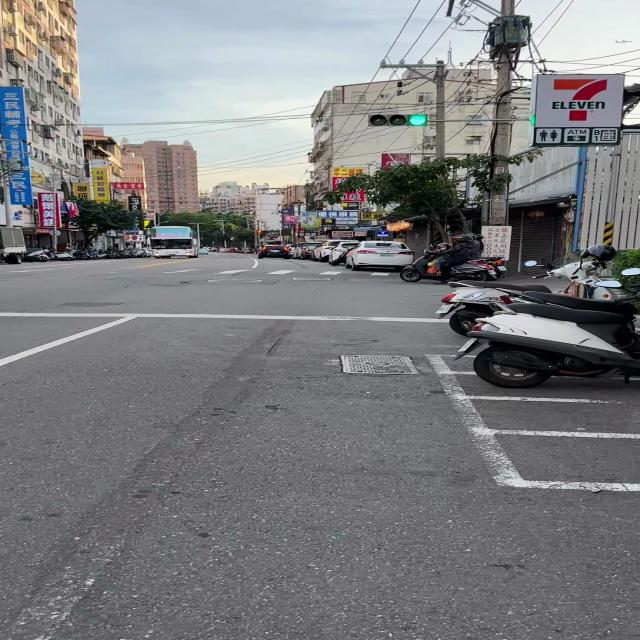bus: (150, 226, 199, 257)
car: (344, 241, 415, 270), (258, 245, 292, 259)
crosswalk: (2, 269, 392, 277)
motocycle: (454, 302, 640, 388), (435, 280, 551, 334), (399, 246, 439, 282), (450, 260, 496, 281)
